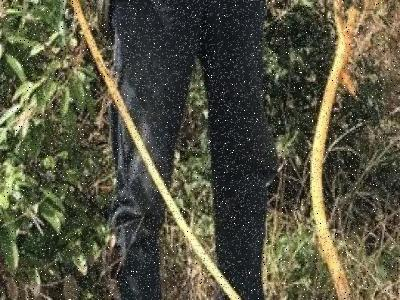Root: (71, 0, 241, 300), (310, 0, 359, 300)
